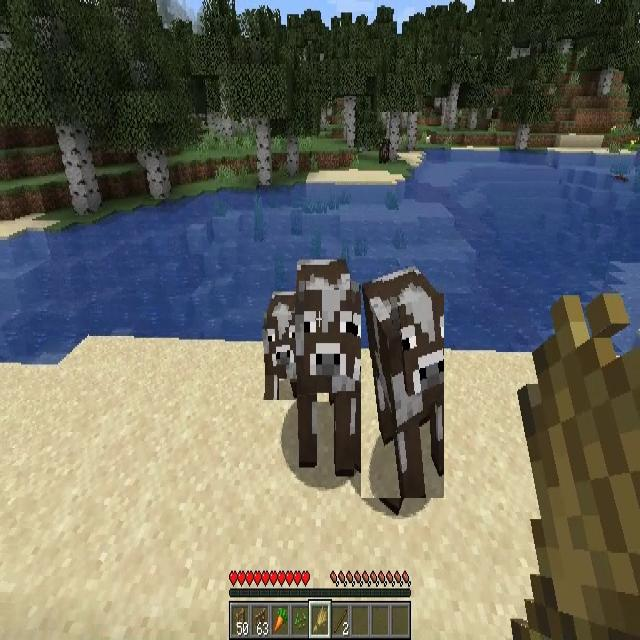cow: (361, 266, 444, 498), (298, 258, 364, 466), (264, 289, 301, 403), (380, 136, 390, 164)
